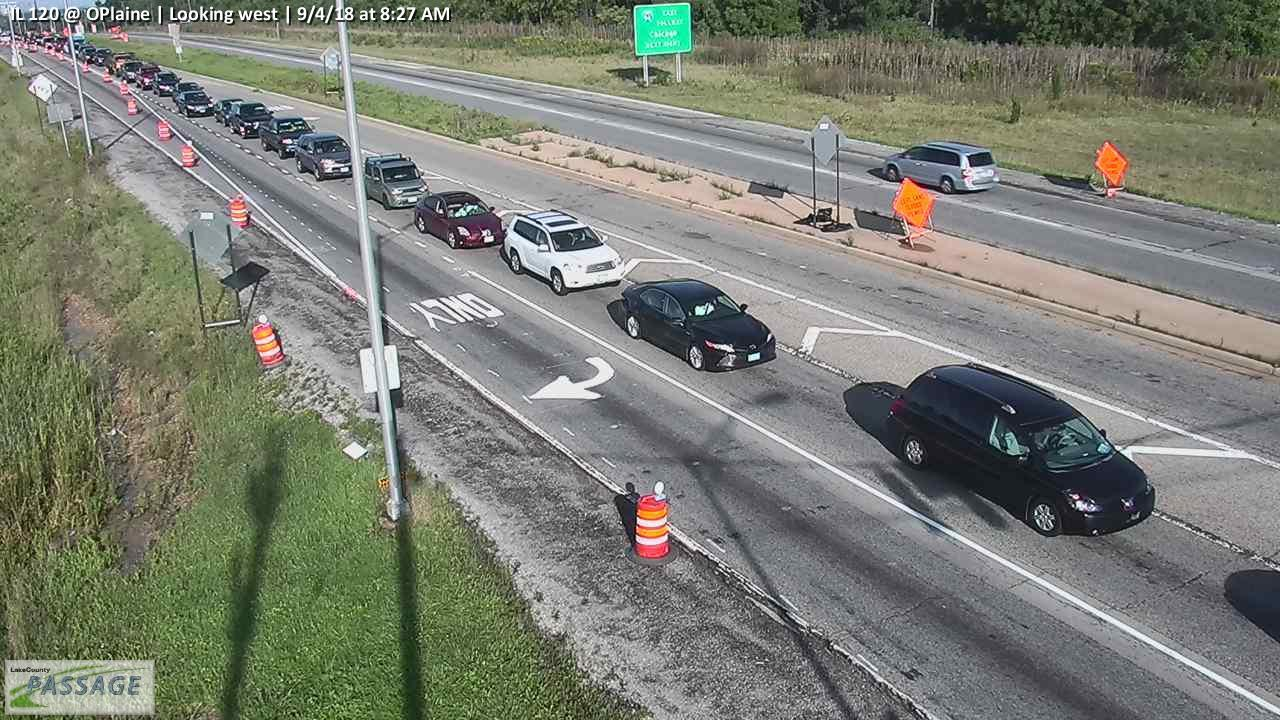SUV: (887, 362, 1156, 537), (502, 204, 625, 297), (882, 140, 1001, 193), (363, 154, 430, 210), (294, 129, 357, 182), (258, 115, 314, 161), (227, 100, 275, 138), (151, 70, 178, 97), (133, 64, 159, 89)
Sedan: (622, 276, 776, 373), (413, 190, 505, 250), (175, 90, 215, 118), (212, 97, 245, 126), (171, 81, 205, 102)
